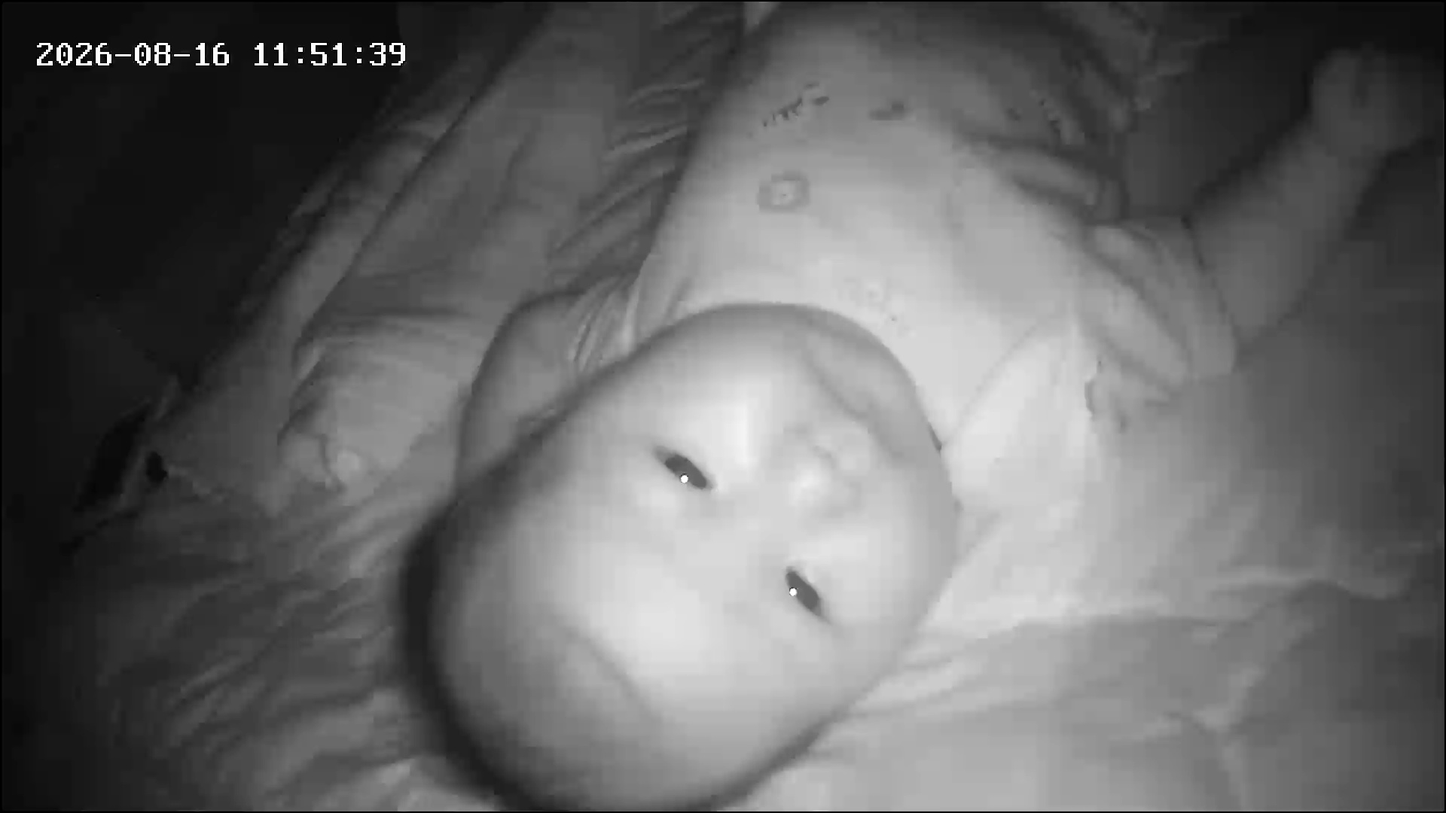baby: (392, 0, 1360, 810)
baby_face: (387, 292, 974, 807)
